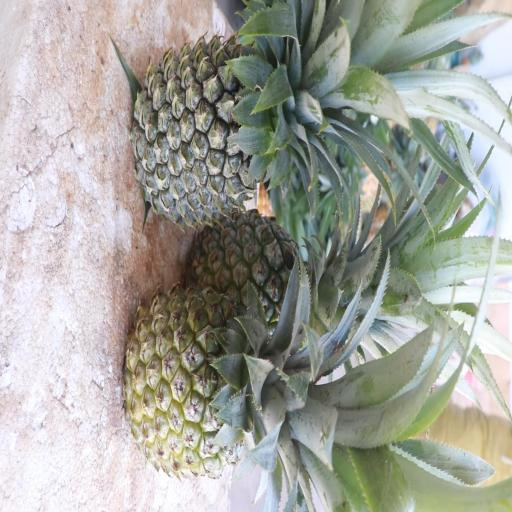------------------------------: (119, 282, 354, 488), (180, 206, 368, 352)
